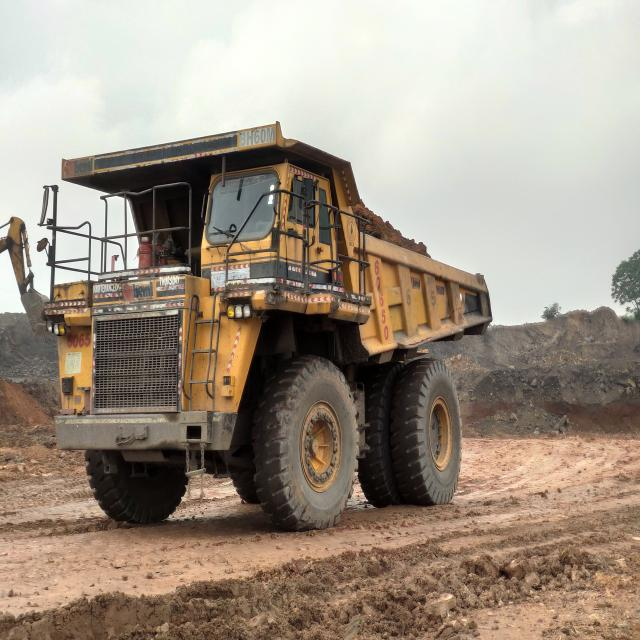dump_truck: (46, 121, 494, 532)
